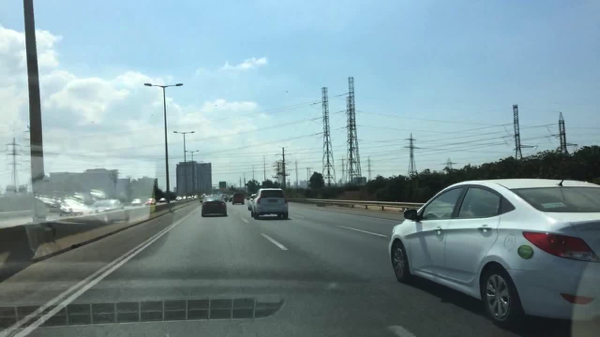car: (389, 177, 598, 329), (250, 189, 289, 220), (88, 198, 125, 215), (200, 196, 227, 219), (60, 201, 86, 216), (232, 192, 245, 206), (247, 193, 257, 211), (130, 198, 143, 206), (145, 198, 157, 206), (225, 194, 233, 202), (175, 196, 186, 201), (219, 193, 228, 199), (192, 194, 200, 200), (200, 193, 208, 198), (159, 198, 167, 202), (186, 196, 195, 199)
traffic sign: (219, 182, 228, 188)
